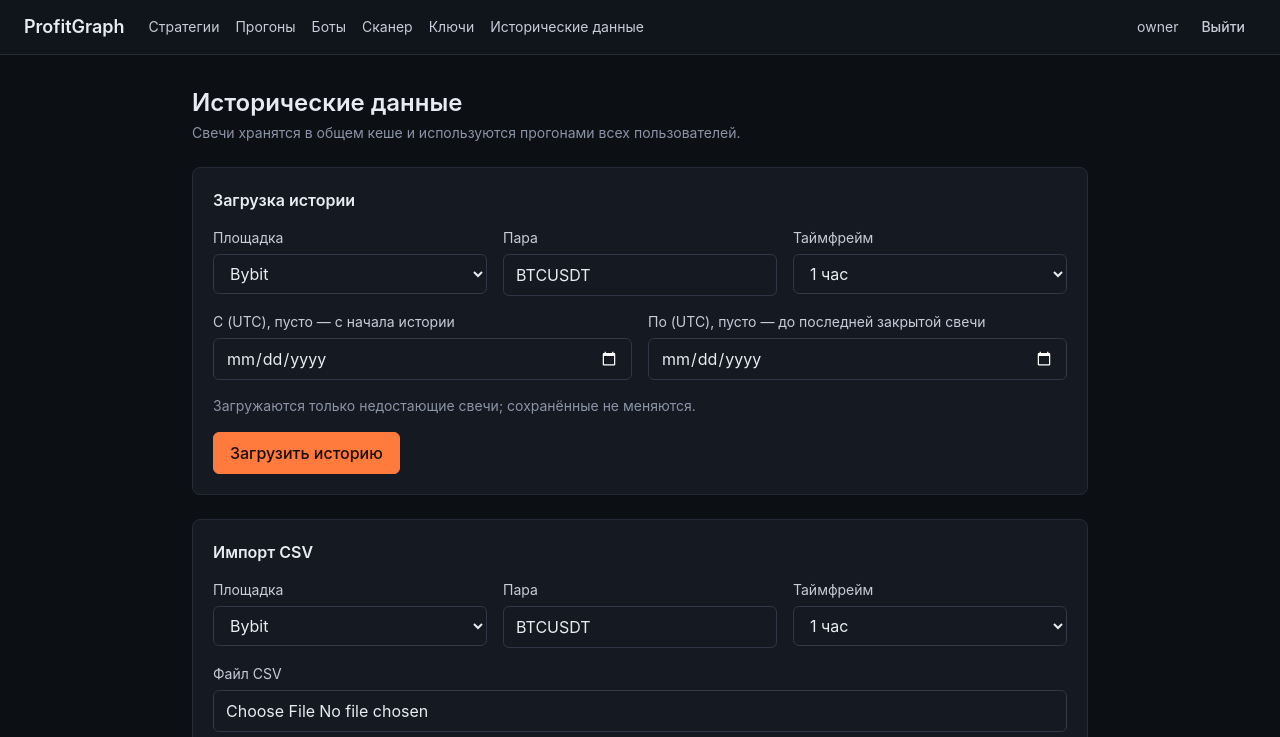
historical data › cancels a queued download
Expected: the dropdown labelled "Площадка" below "Загрузка истории" shows "Bybit", [213,254,487,294]
Click the button "Загрузить историю" at (306, 453), box [213,432,400,474]
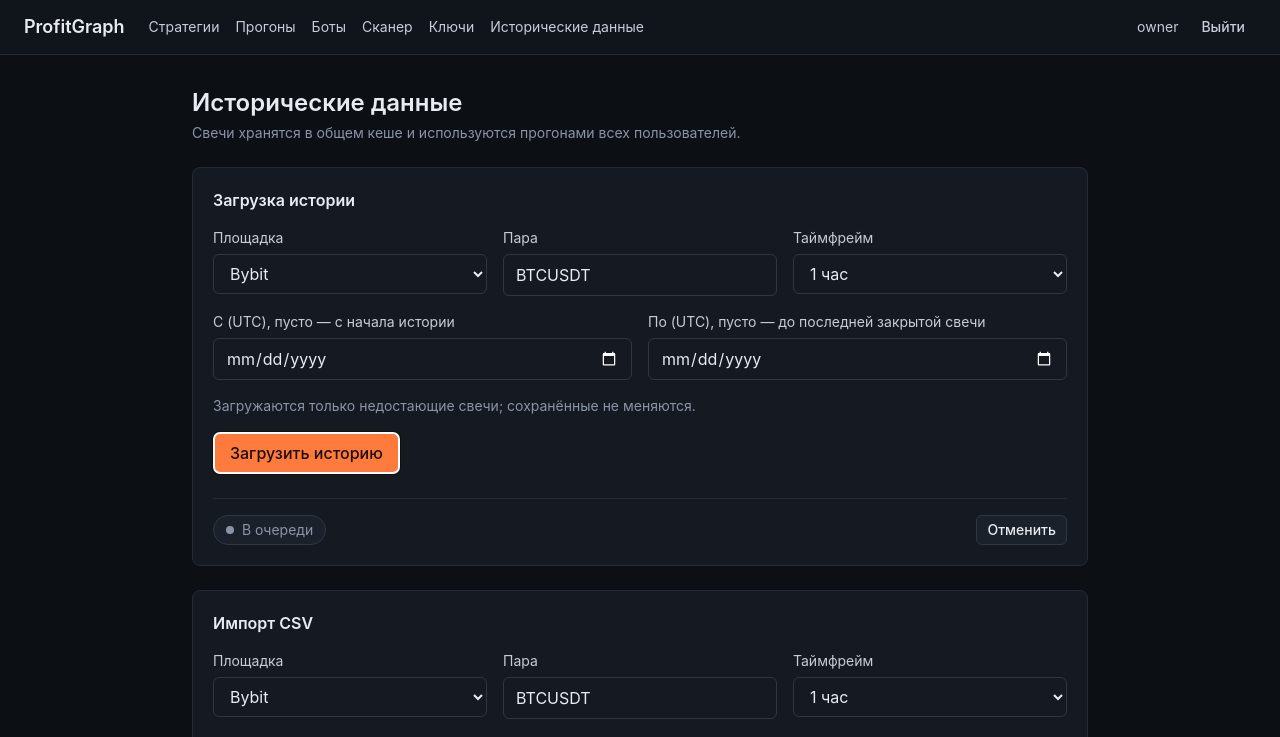
Click the button "Отменить" at (1022, 530), box [976,515,1067,545]
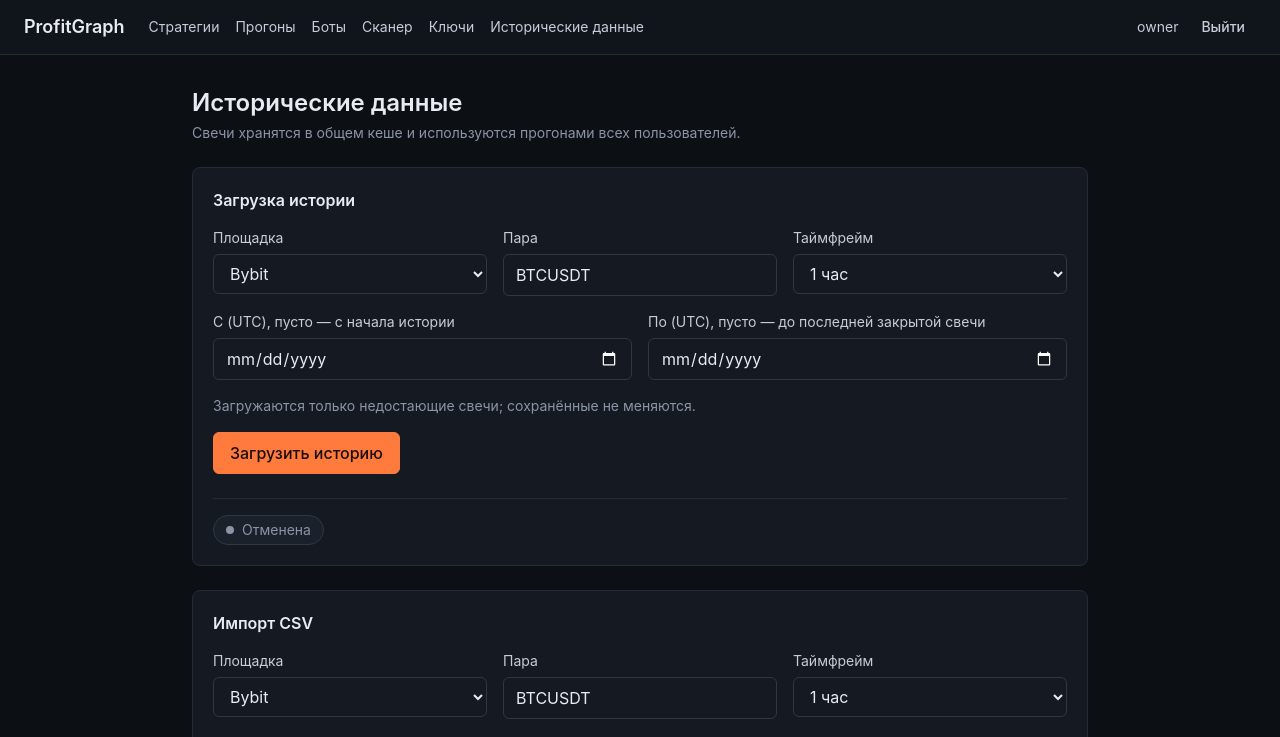
Expected: the text "Отменена" is shown, [213,515,324,545]
Expected: the button "Отменить" is gone
